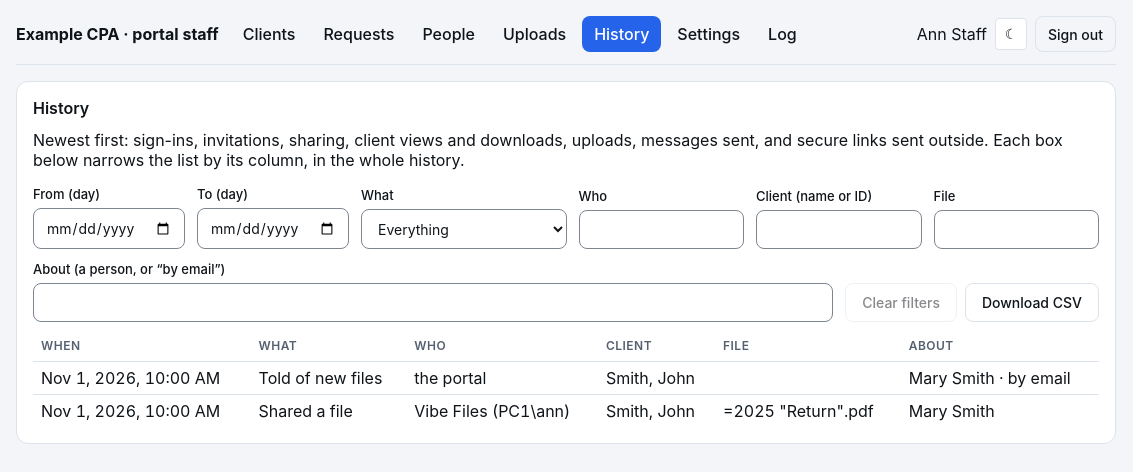
Test case: staff page › History is narrowed by each column, shows the client and the file, and goes to CSV (P103)
Note: What, and the client: asked of the whole history, not of the rows on the page.
Select "Shared a file" in the dropdown labelled "What": (464, 229) [361,209,566,249]
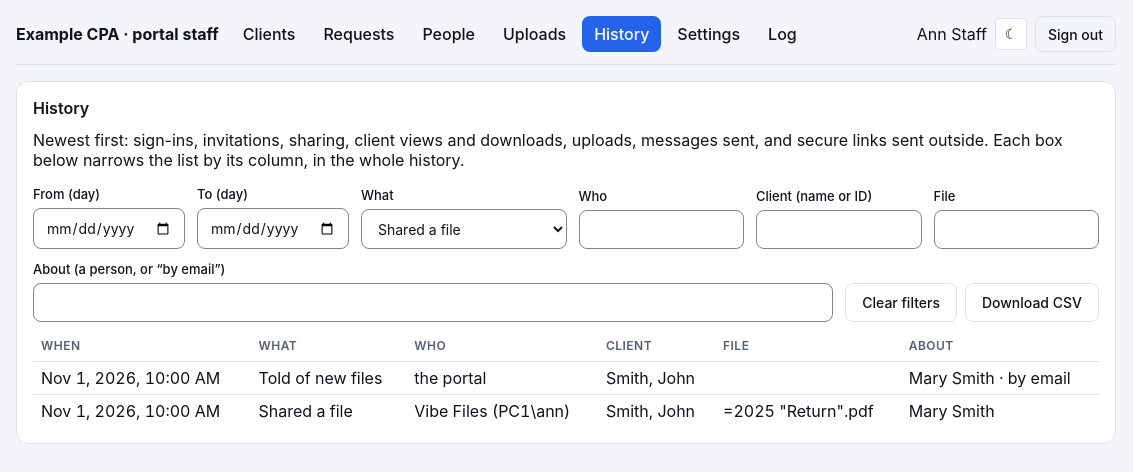
In the field labelled "Client (name or ID)": (839, 230) [756,210,922,249], type "smith"
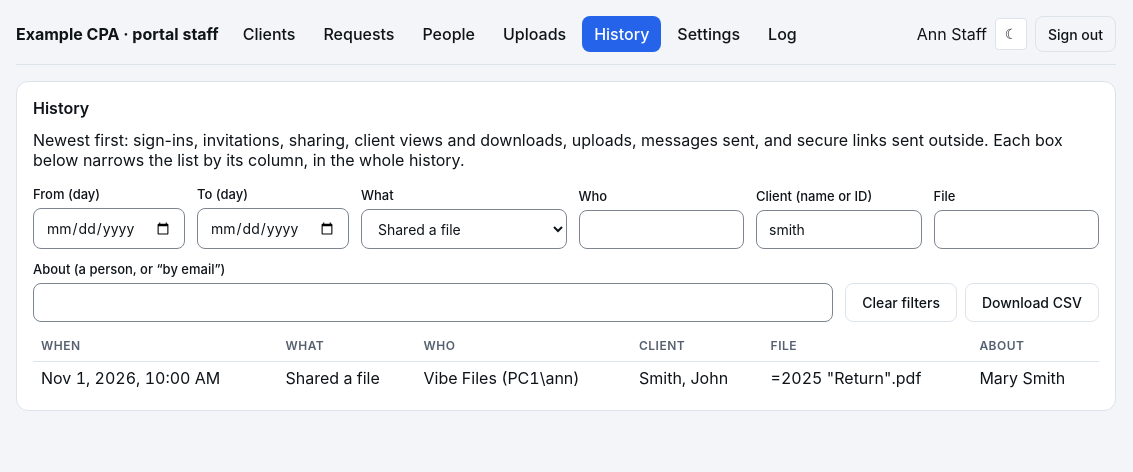
expect the text "Told of new files" is gone: met
Click the button "Download CSV": (1032, 302) [965,283,1099,322]
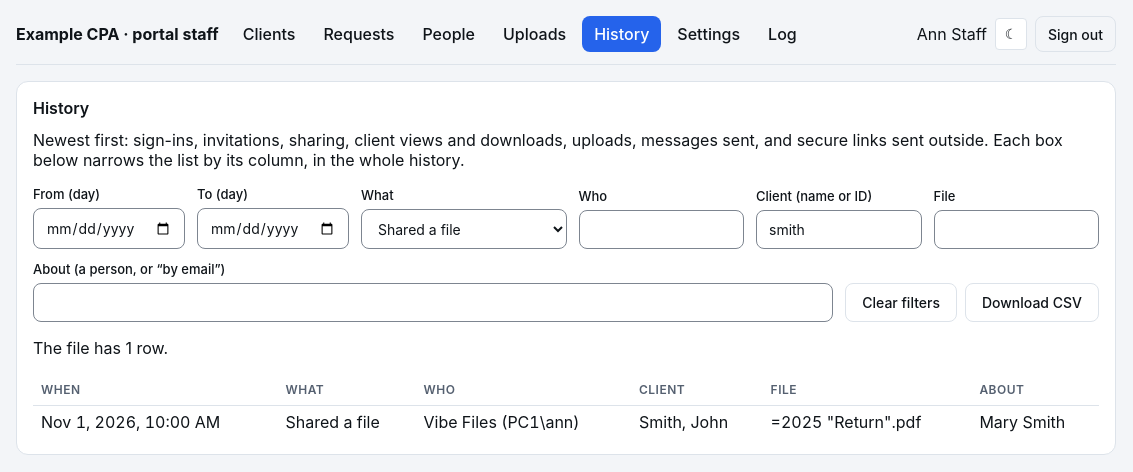
expect the text "The file has 1 row." is shown: met, box [33,338,168,358]
Note: A day, too: asked for from its first moment to the first moment of the next.
In the date field labelled "From (day)": (109, 228) [33,208,185,249], type "2026-11-01"
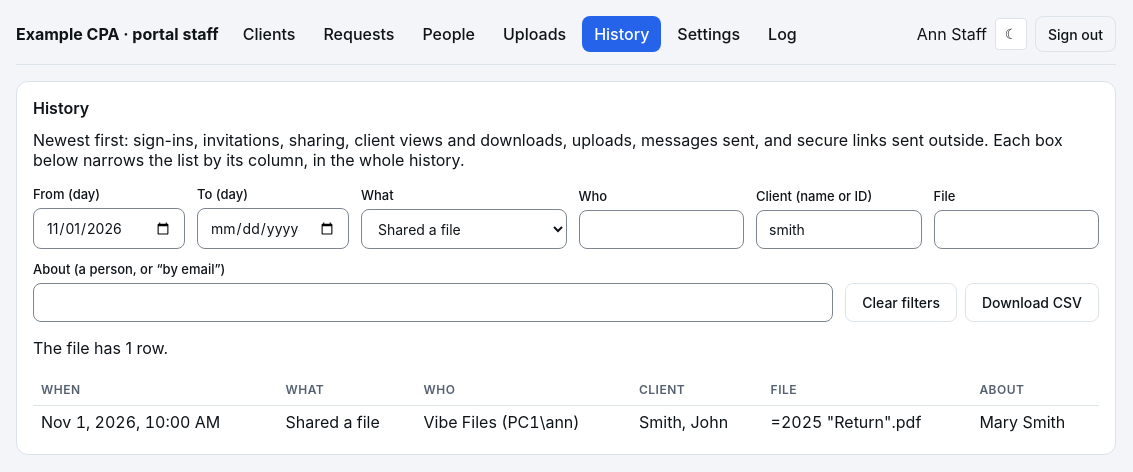
In the date field labelled "To (day)": (273, 228) [197,208,349,249], type "2026-11-01"
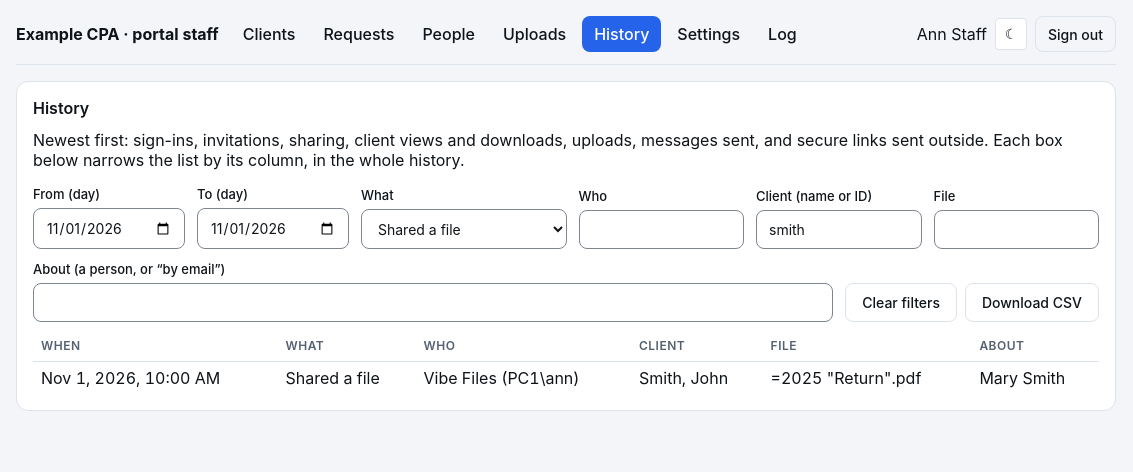
Click the button "Clear filters": (901, 302) [845,283,957,322]
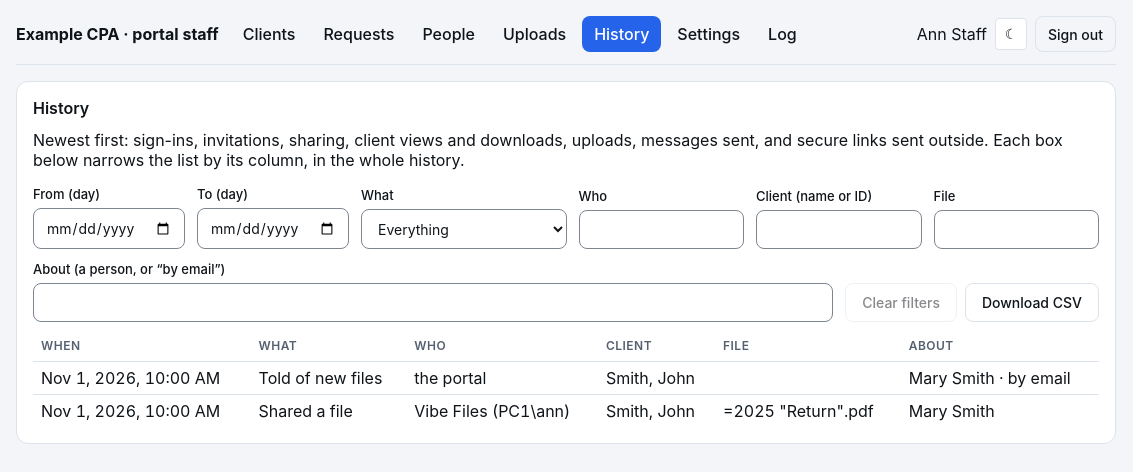
expect the text "Told of new files" is shown: met, box [251,362,406,394]
expect the date field labelled "From (day)" is empty: met, box [33,208,185,249]
expect the date field labelled "To (day)" is empty: met, box [197,208,349,249]
